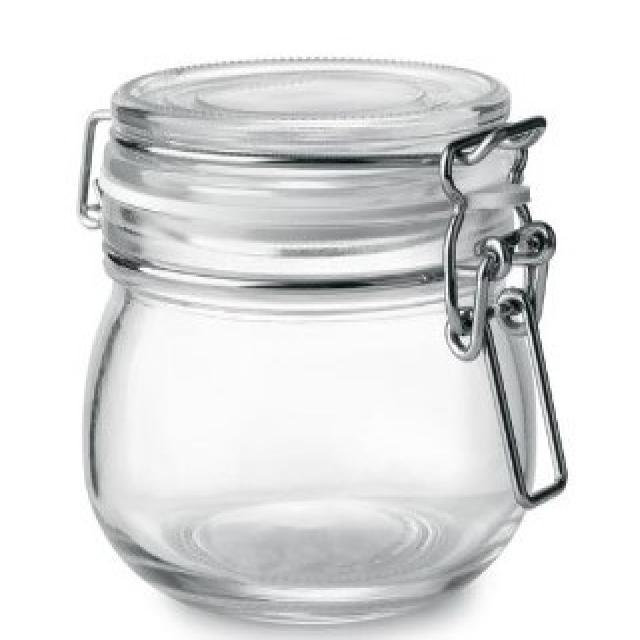electronic: (76, 60, 558, 640)
